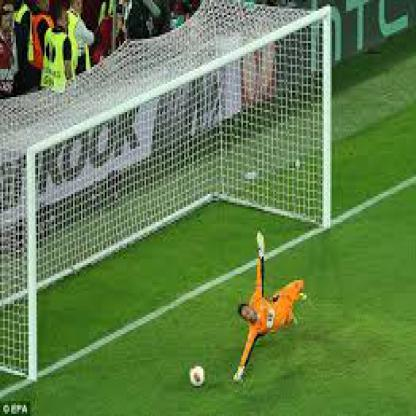goal: (22, 206, 339, 398)
